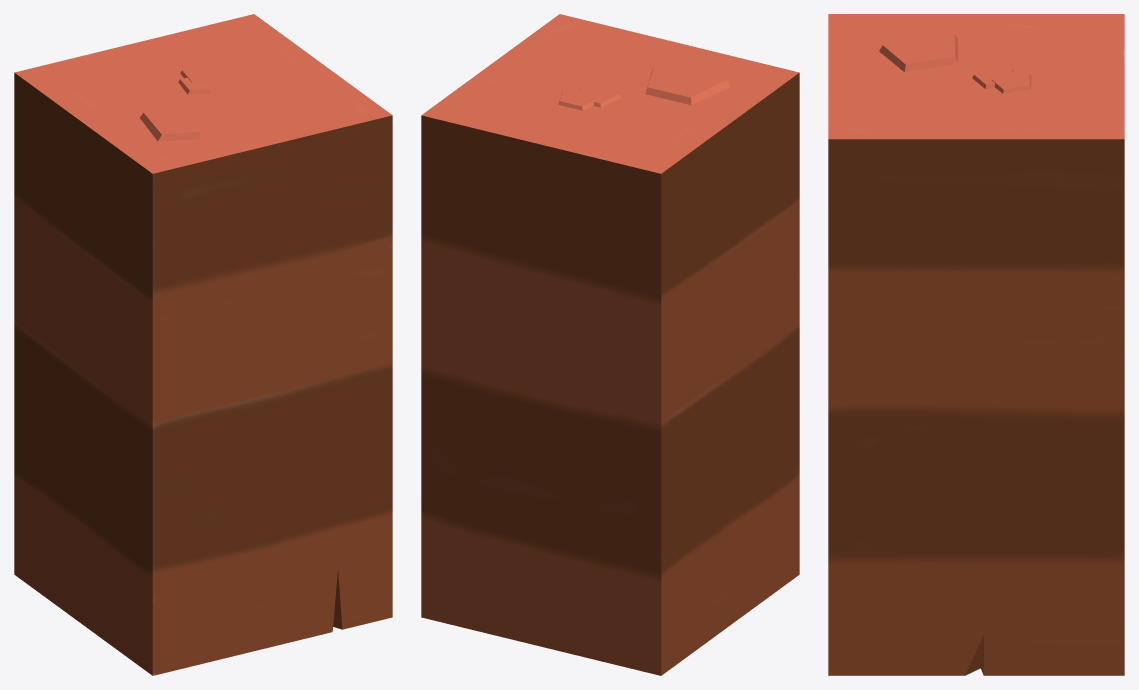
The model's file is wall_lisse.fbx.
The picture shows the model from 3 angles, left to right: view 1: azimuth 30°, elevation 25°; view 2: azimuth 150°, elevation 25°; view 3: azimuth 270°, elevation 25°; orthographic projection. The views are drawn at different scales.
Visible parts, largest first — view 1: Cube, Cube.001, Cube.003; view 2: Cube, Cube.001, Cube.003; view 3: Cube, Cube.001, Cube.003, Cube.002.
Part boxes in pixels (x1,y1,x2,y2): Cube: (14,14,392,675); Cube.001: (140,102,228,141); Cube.003: (180,64,227,82); Cube: (421,14,799,675); Cube.001: (645,66,730,105); Cube.003: (558,90,601,110); Cube: (828,14,1124,675); Cube.001: (879,29,958,72); Cube.003: (991,71,1031,93); Cube.002: (972,66,1013,89).
Size of the model in its own units: 200 by 405 by 200.
2 materials, 1 textured.
